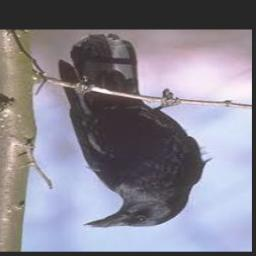Crow: (59, 34, 211, 228)
